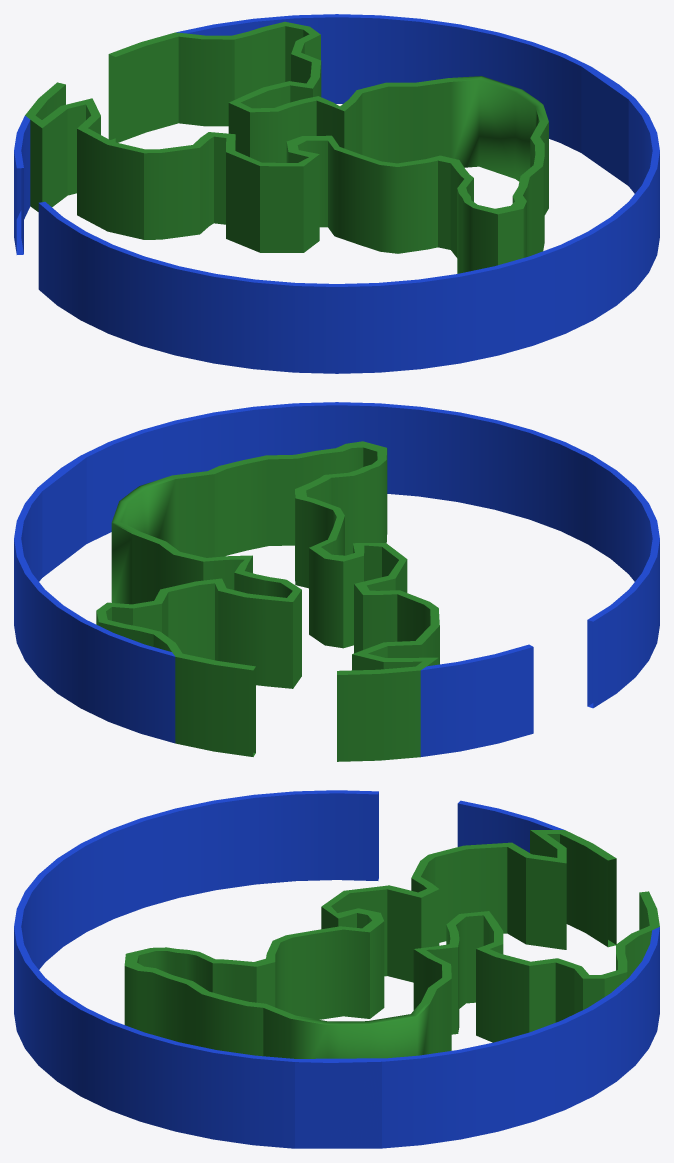
The model's file is earth_cut2.fbx.
3 renders of one model, top to bottom at view 1: azimuth 30°, elevation 25°; view 2: azimuth 150°, elevation 25°; view 3: azimuth 270°, elevation 25°, orthographic.
Visible parts, largest first — view 1: Circle; view 2: Circle; view 3: Circle.
Part boxes in pixels (x1,y1,x2,y2): Circle: (14,14,659,373); Circle: (14,402,659,761); Circle: (14,790,659,1148).
Bounding box in the file's own units: 202 × 30 × 202.
